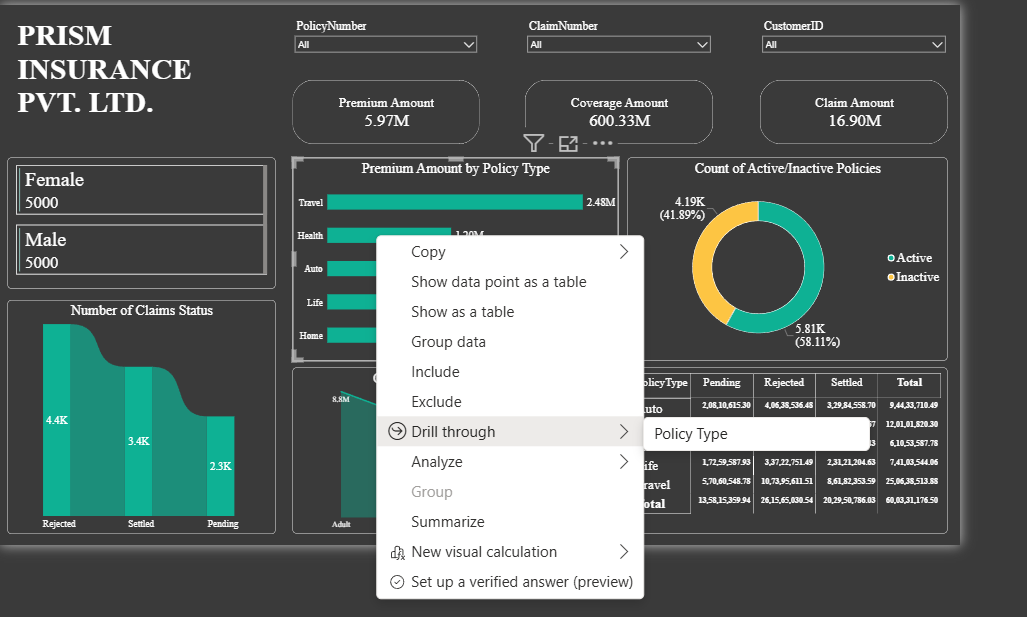

The dashboard page shown, as its layout file describes it:
{"tool":"powerbi","page":{"name":"DashBoard","canvas":[1920,1080],"ordinal":0},"visuals":[{"type":"slicer","fields":{"Values":["InsuranceData.PolicyNumber"]},"box":[586,28,374,122],"z":0},{"type":"slicer","fields":{"Values":["InsuranceData.ClaimNumber"]},"box":[1050,28,376,122],"z":1000},{"type":"textbox","box":[36,28,492,250],"z":2000},{"type":"cardVisual","fields":{"Data":["Sum(InsuranceData.PremiumAmount)"]},"box":[586,150,374,128],"z":3000},{"type":"cardVisual","fields":{"Data":["Sum(InsuranceData.CoverageAmount)"]},"box":[1050,150,376,128],"z":4000},{"type":"cardVisual","fields":{"Data":["Sum(InsuranceData.ClaimAmount)"]},"box":[1520,150,376,128],"z":5000},{"type":"slicer","fields":{"Values":["InsuranceData.CustomerID"]},"box":[1520,28,376,122],"z":6000},{"type":"multiRowCard","fields":{"Values":["InsuranceData.Gender","CountNonNull(InsuranceData.Gender)"]},"box":[14,306,536,262],"z":7000},{"type":"ribbonChart","title":"Number of Claims Status","fields":{"Category":["InsuranceData.ClaimStatus"],"Y":["CountNonNull(InsuranceData.ClaimStatus)"]},"box":[14,590,536,468],"z":8000},{"type":"barChart","title":"Premium Amount by Policy Type","fields":{"Category":["InsuranceData.PolicyType"],"Y":["Sum(InsuranceData.PremiumAmount)"]},"box":[586,306,652,406],"z":9000},{"type":"lineChart","title":"Claim Amount by Age Group","fields":{"Category":["InsuranceData.Age Group"],"Y":["Sum(InsuranceData.ClaimAmount)"]},"box":[586,726,652,332],"z":10000},{"type":"donutChart","title":"Count of Active/Inactive Policies","fields":{"Category":["InsuranceData.Active/Inactive"],"Y":["CountNonNull(InsuranceData.Active/Inactive)"]},"box":[1256,306,640,406],"z":11000},{"type":"pivotTable","fields":{"Values":["Sum(InsuranceData.CoverageAmount)"],"Rows":["InsuranceData.PolicyType"],"Columns":["InsuranceData.ClaimStatus"]},"box":[1256,726,640,332],"z":12000}]}

Visuals, with their boxes on the page's 1920x1080 design canvas (x1, y1, x2, y2). These are canvas units, not pixel positions in the 1027x617 screenshot, which may show the page scaled, cropped or inside an application window:
slicer - InsuranceData.PolicyNumber: 586, 28, 960, 150
slicer - InsuranceData.ClaimNumber: 1050, 28, 1426, 150
textbox: 36, 28, 528, 278
cardVisual - Sum(InsuranceData.PremiumAmount): 586, 150, 960, 278
cardVisual - Sum(InsuranceData.CoverageAmount): 1050, 150, 1426, 278
cardVisual - Sum(InsuranceData.ClaimAmount): 1520, 150, 1896, 278
slicer - InsuranceData.CustomerID: 1520, 28, 1896, 150
multiRowCard - InsuranceData.Gender x CountNonNull(InsuranceData.Gender): 14, 306, 550, 568
"Number of Claims Status" ribbonChart: 14, 590, 550, 1058
"Premium Amount by Policy Type" barChart: 586, 306, 1238, 712
"Claim Amount by Age Group" lineChart: 586, 726, 1238, 1058
"Count of Active/Inactive Policies" donutChart: 1256, 306, 1896, 712
pivotTable - Sum(InsuranceData.CoverageAmount) x InsuranceData.PolicyType: 1256, 726, 1896, 1058
